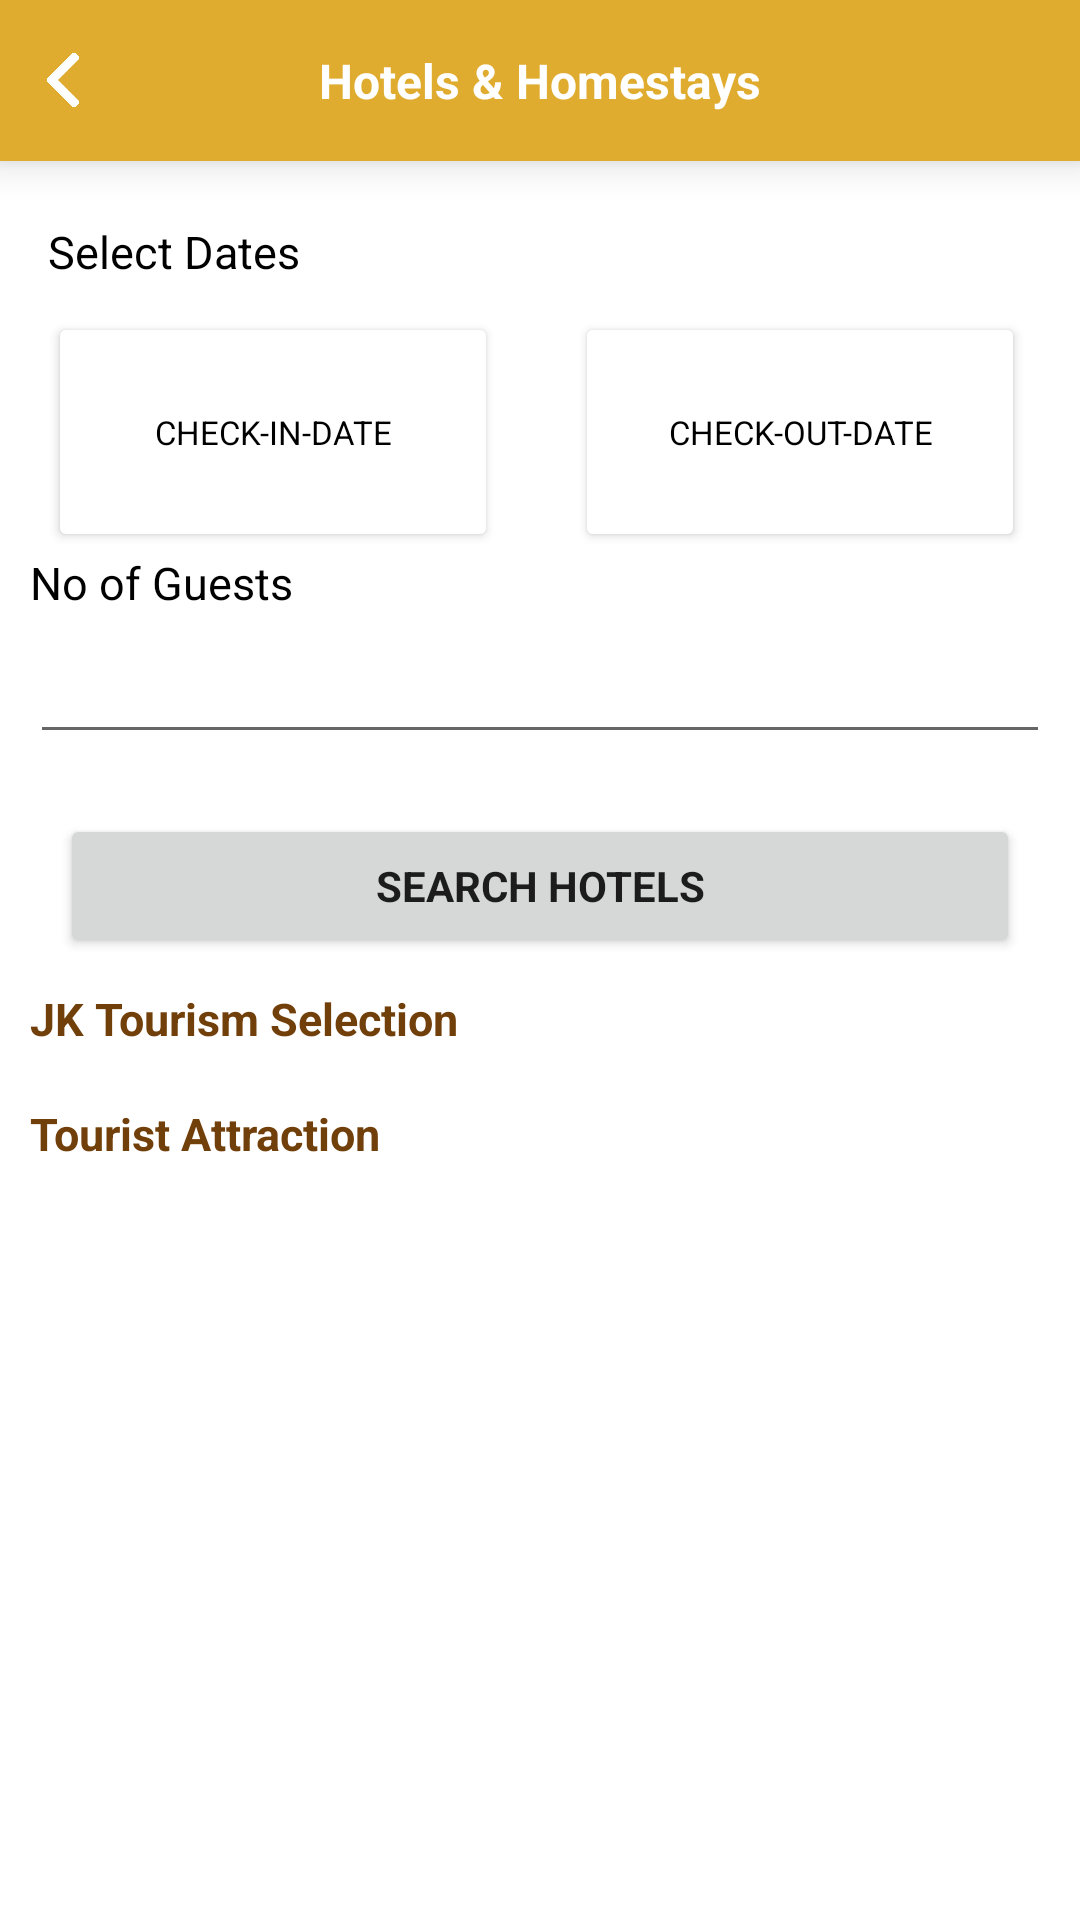

Screen size 1080 x 1920. Icon name, then its center in pixels as (x=x, y=y):
back: (x=63, y=80)
